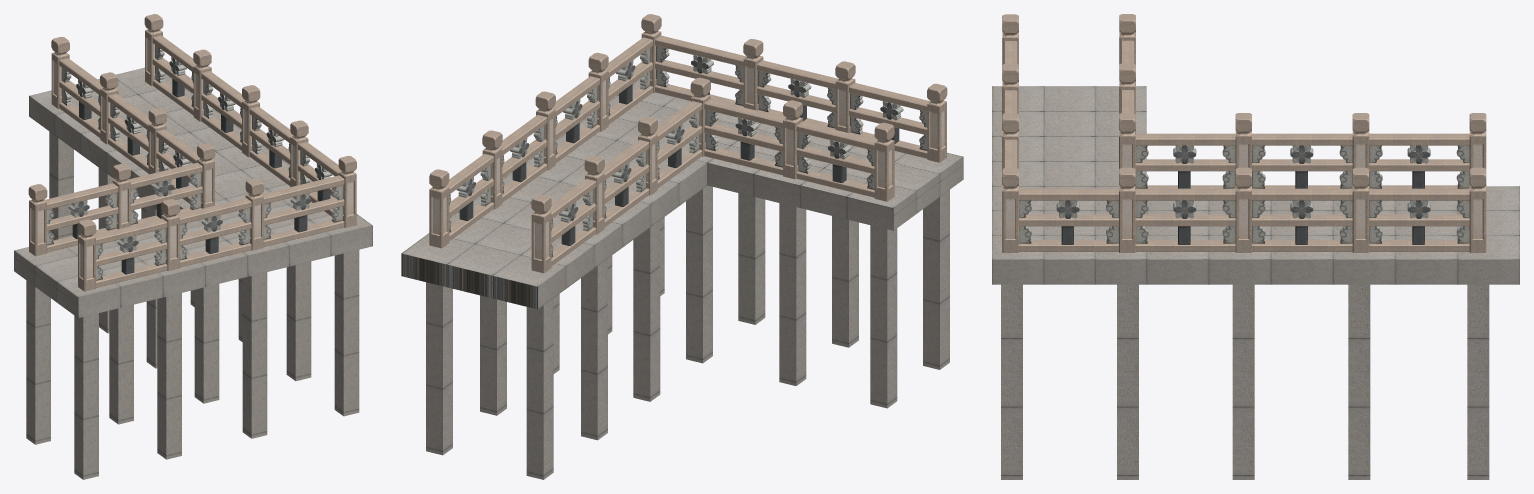
Rendered from Building_BridgeWeiShiTing01.FBX.
3 views of the same model, side by side, from view 1: azimuth 30°, elevation 25°; view 2: azimuth 150°, elevation 25°; view 3: azimuth 270°, elevation 25° (orthographic). The views are drawn at different scales.
Parts seen in each view (by area): view 1: Box04; view 2: Box04; view 3: Box04.
Boxes of the visible parts, x1,y1,x2,y2 form: Box04: (14,14,372,479); Box04: (401,14,963,479); Box04: (992,14,1519,479).
Size of the model in its own units: 495 by 405 by 636.
